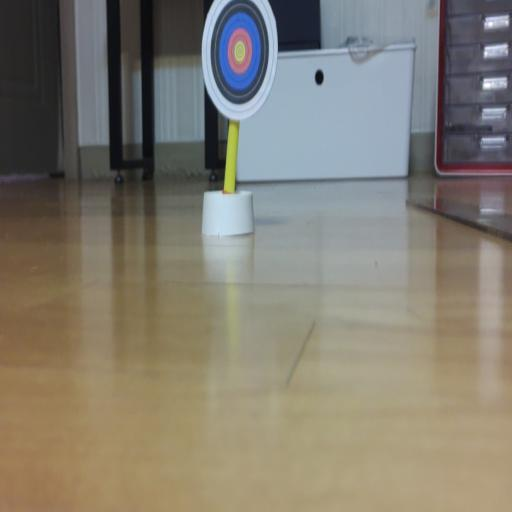target: (202, 0, 276, 120)
